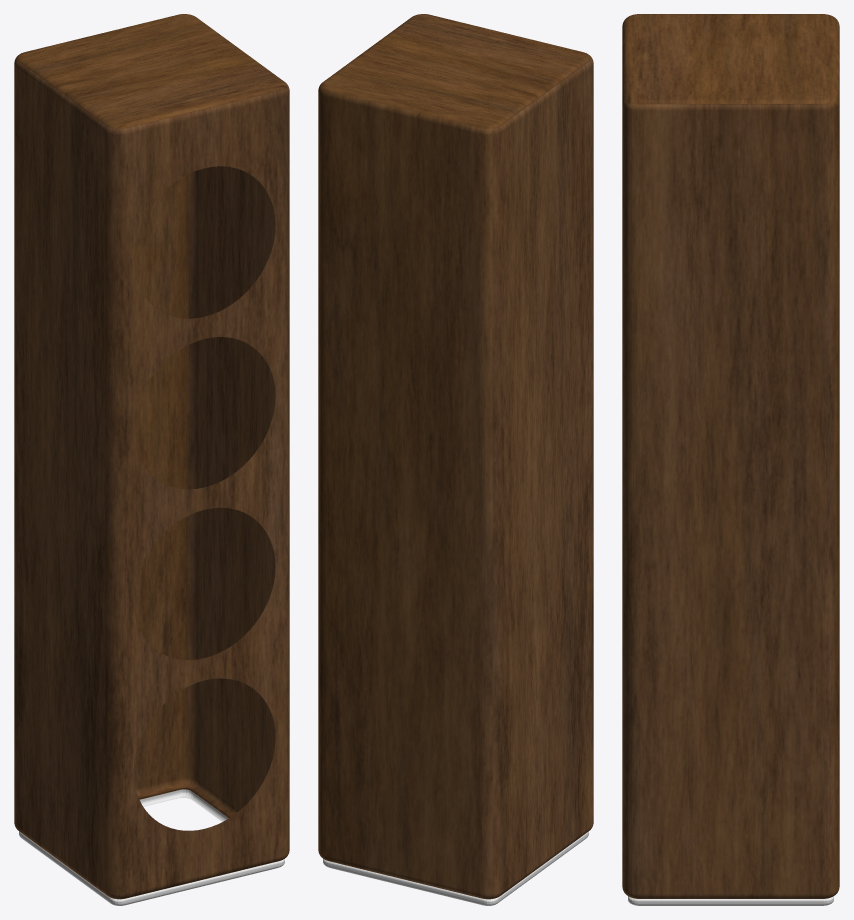
The model's file is SpeakerBox.glb.
3 views of the same model, side by side, from view 1: azimuth 30°, elevation 25°; view 2: azimuth 150°, elevation 25°; view 3: azimuth 270°, elevation 25° (orthographic). The views are drawn at different scales.
Parts seen in each view (by area): view 1: SpeakerBox; view 2: SpeakerBox; view 3: SpeakerBox.
Boxes of the visible parts, x1=… form: SpeakerBox: x1=14, y1=14, x2=289, y2=905; SpeakerBox: x1=318, y1=14, x2=593, y2=905; SpeakerBox: x1=622, y1=14, x2=839, y2=905.
Bounding box in the file's own units: 2.52 × 10.33 × 2.52.
2 materials, 1 textured.
